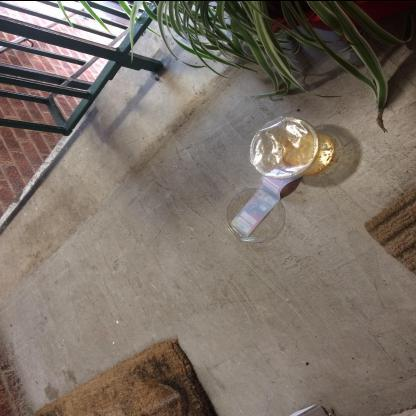plastik: (225, 116, 337, 243)
